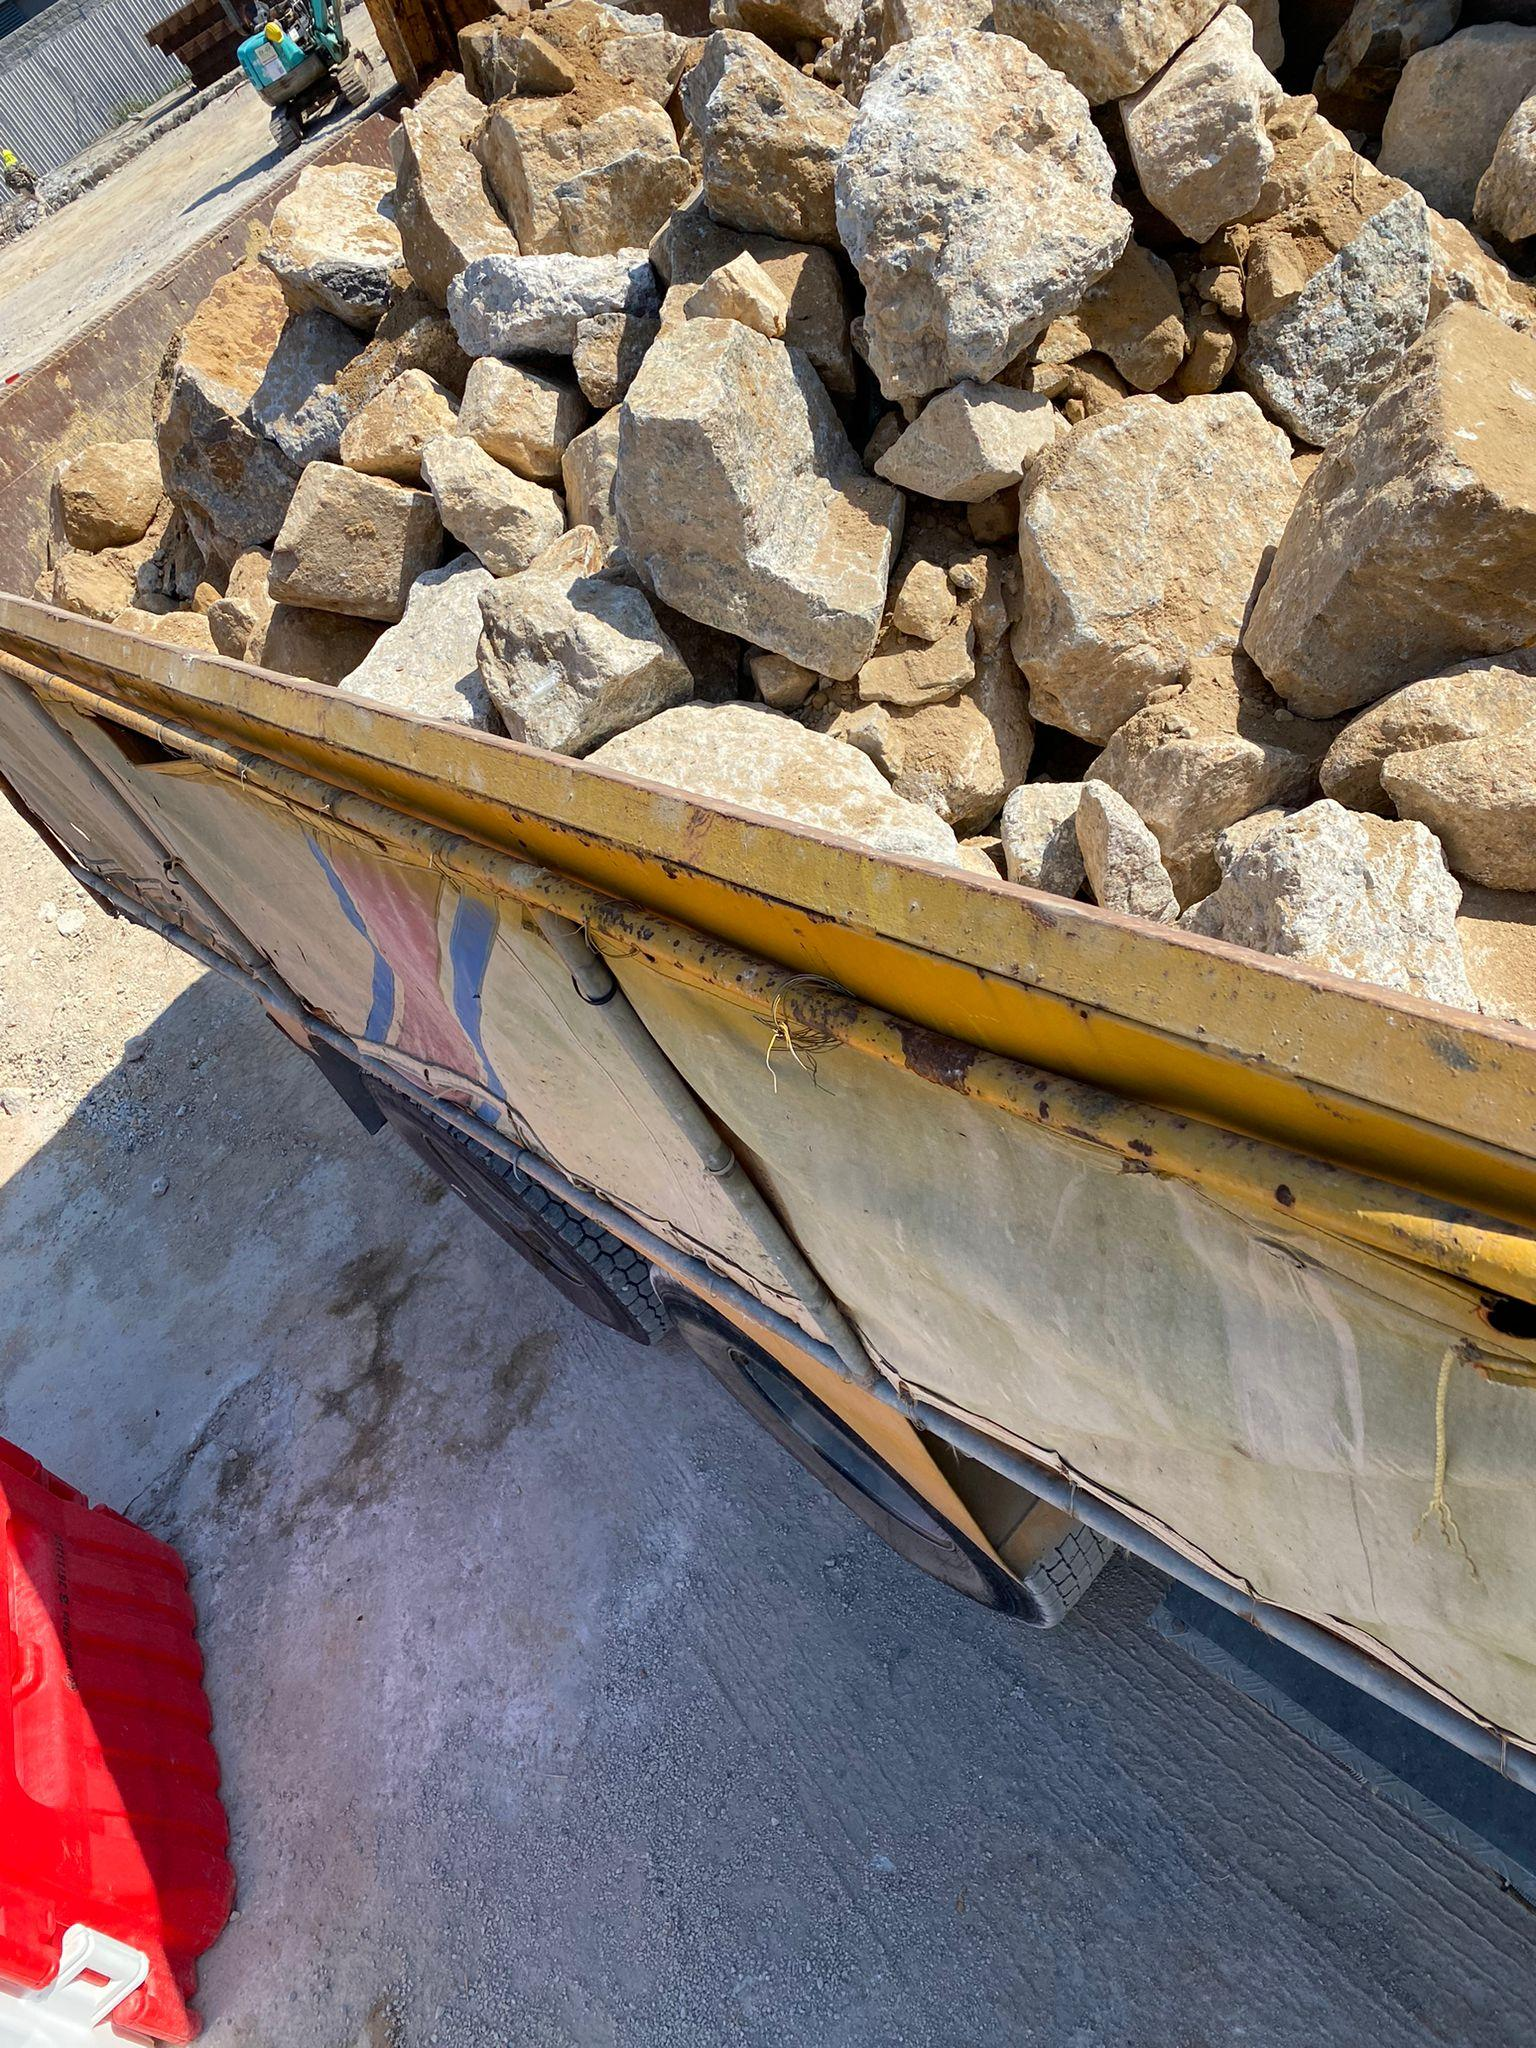dry: (66, 13, 1530, 1030)
